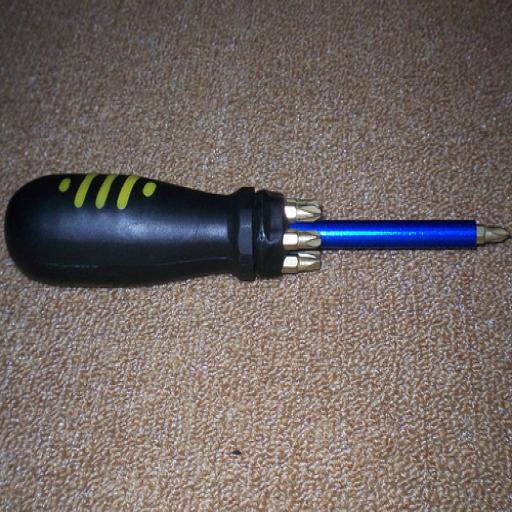screwdriver: (8, 170, 512, 284)
